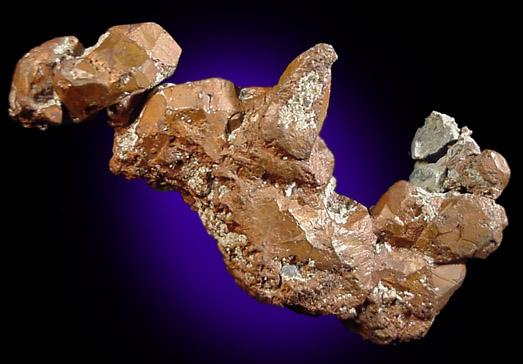copper: (111, 44, 510, 344), (8, 22, 181, 130)
